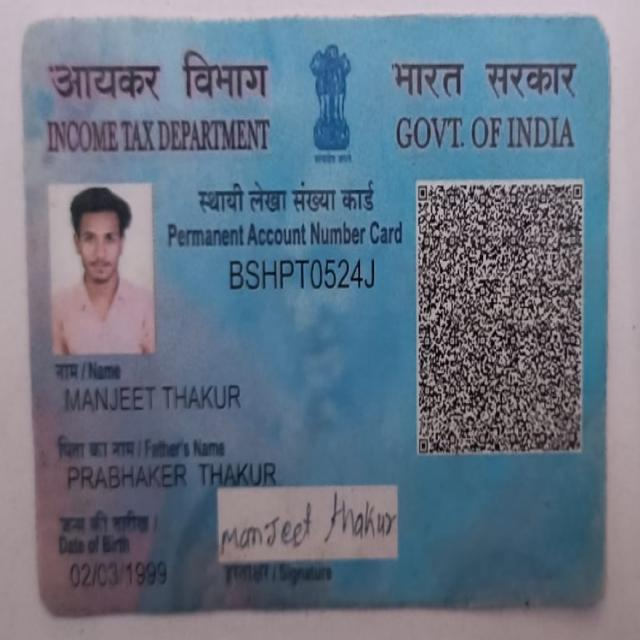pan_card: (25, 22, 610, 612)
